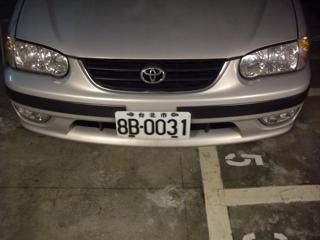plate: (112, 109, 192, 140)
